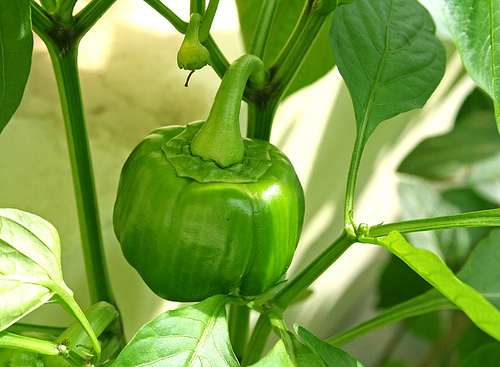capsicum: (110, 53, 307, 304)
